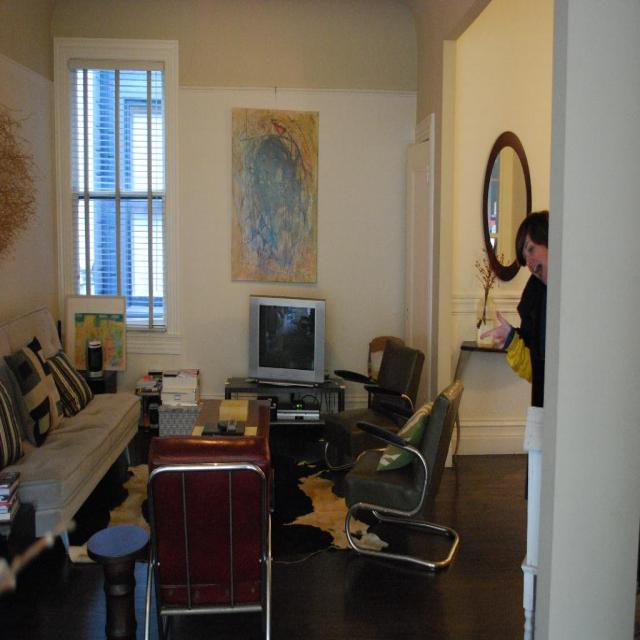chair: (324, 380, 464, 575), (143, 442, 273, 637), (356, 337, 426, 424)
desk: (130, 397, 282, 629)
person: (494, 210, 548, 405)
tv: (248, 296, 326, 386)
